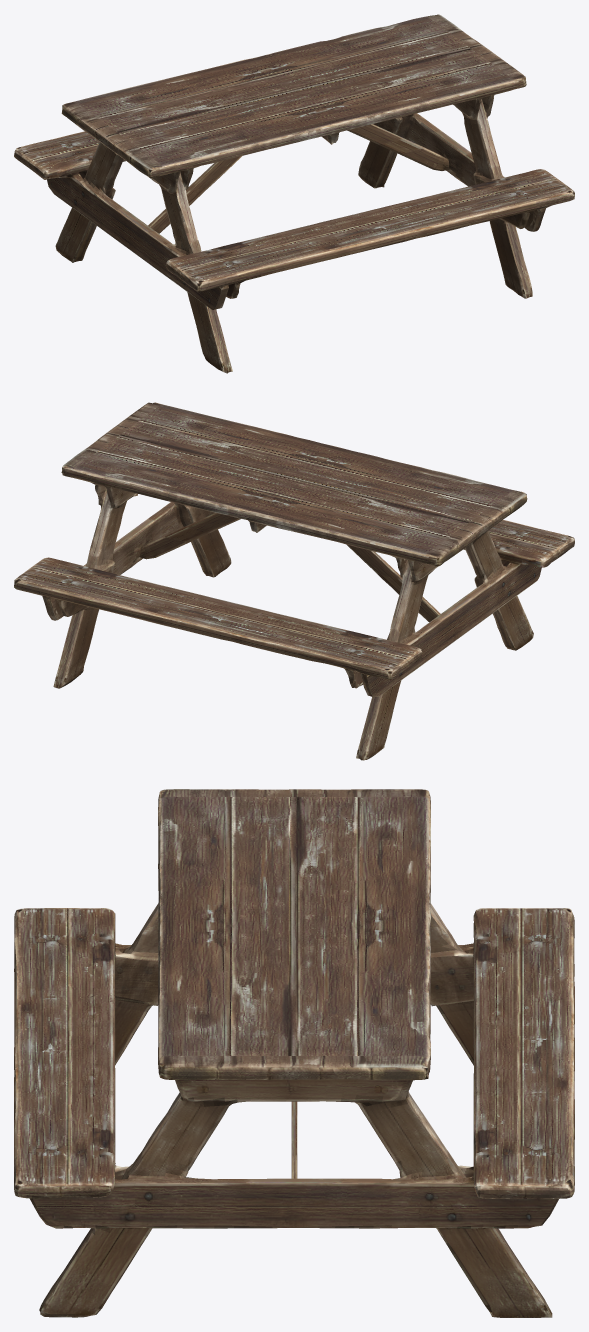
Rendered from PicnicTable.fbx.
3 renders of one model, top to bottom at view 1: azimuth 30°, elevation 25°; view 2: azimuth 150°, elevation 25°; view 3: azimuth 270°, elevation 25°, orthographic. The views are drawn at different scales.
Visible parts, largest first — view 1: temp; view 2: temp; view 3: temp.
Part boxes in pixels (x1,y1,x2,y2): temp: (14, 14, 574, 373); temp: (14, 402, 574, 760); temp: (14, 789, 574, 1317).
Bounding box in the file's own units: 190 × 87.91 × 161.
Materials: 1 (1 with a texture image).
